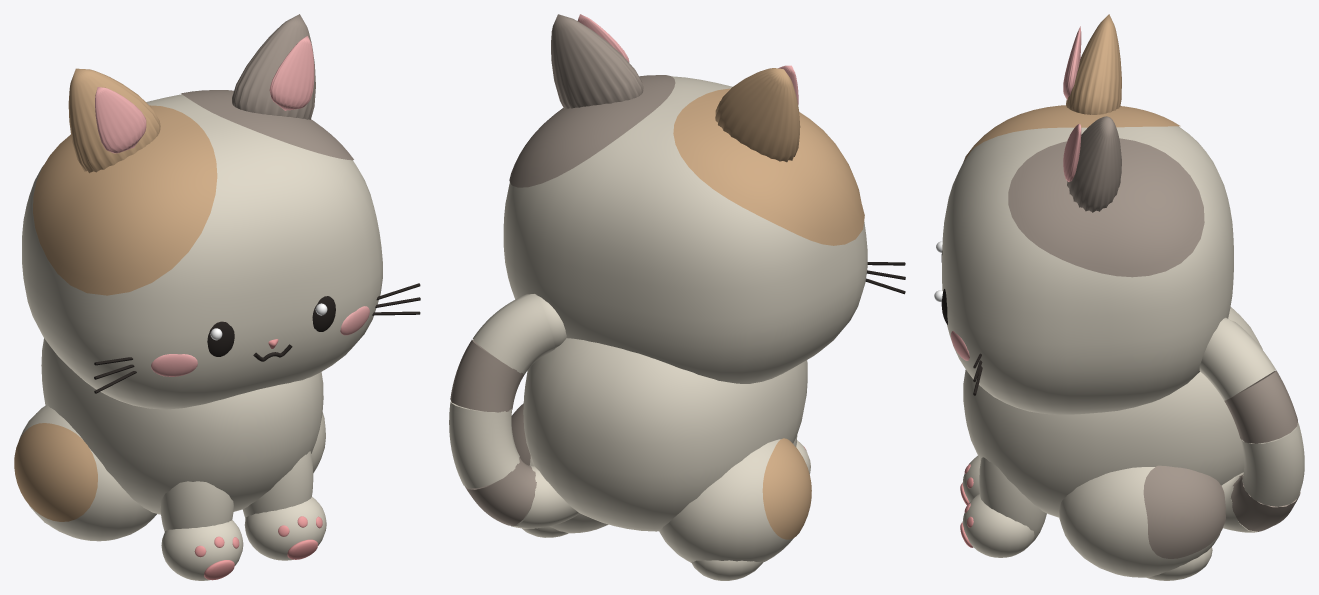
File: cat.glb
The picture shows the model from 3 angles, left to right: view 1: azimuth 30°, elevation 25°; view 2: azimuth 150°, elevation 25°; view 3: azimuth 270°, elevation 25°; orthographic projection. The views are drawn at different scales.
Parts seen in each view (by area): view 1: HeadMesh, Torso, PatchHeadL, PatchBodyL, EarL, HaunchL, EarR, PatchHeadR, PawL, PawR, LegL, EarInnerL (+6 smaller); view 2: HeadMesh, Torso, Tail, PatchHeadL, HaunchL, PatchHeadR, EarR, EarL, PatchBodyL, FootL, HaunchR, PatchBodyR (+1 smaller); view 3: HeadMesh, Torso, PatchHeadR, Tail, HaunchR, PatchBodyR, EarL, EarR, PatchHeadL, PawR, LegR, FootR (+3 smaller).
Part boxes in pixels (<box>): HeadMesh: <box>22,94,382,409</box>; Torso: <box>41,338,323,514</box>; PatchHeadL: <box>33,105,217,295</box>; PatchBodyL: <box>14,423,97,521</box>; EarL: <box>68,68,160,173</box>; HaunchL: <box>19,405,156,541</box>; EarR: <box>232,14,315,119</box>; PatchHeadR: <box>181,90,353,160</box>; PawL: <box>161,520,243,580</box>; PawR: <box>244,497,326,560</box>; LegL: <box>160,481,233,531</box>; EarInnerL: <box>95,87,146,153</box>; HeadMesh: <box>503,76,867,383</box>; Torso: <box>523,338,807,531</box>; Tail: <box>449,294,578,528</box>; PatchHeadL: <box>673,88,864,245</box>; HaunchL: <box>659,439,793,562</box>; PatchHeadR: <box>509,75,675,187</box>; EarR: <box>551,14,643,108</box>; EarL: <box>715,68,800,162</box>; PatchBodyL: <box>762,438,811,539</box>; FootL: <box>691,560,762,580</box>; HaunchR: <box>529,456,608,533</box>; PatchBodyR: <box>511,403,530,465</box>; HeadMesh: <box>942,126,1233,414</box>; Torso: <box>963,307,1262,517</box>; PatchHeadR: <box>1008,138,1204,277</box>; Tail: <box>1199,319,1304,532</box>; HaunchR: <box>1058,467,1221,577</box>; PatchBodyR: <box>1143,465,1225,558</box>; EarL: <box>1066,14,1121,114</box>; EarR: <box>1067,116,1121,212</box>; PatchHeadL: <box>963,105,1180,161</box>; PawR: <box>962,494,1034,557</box>; LegR: <box>979,457,1046,544</box>; FootR: <box>1146,547,1212,580</box>.
Bounding box in the file's own units: 0.7427 × 1.06 × 0.7584.
